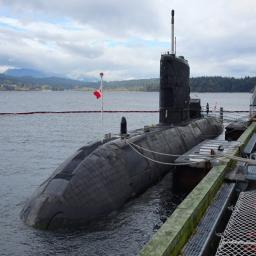submarine: (19, 54, 225, 220)
